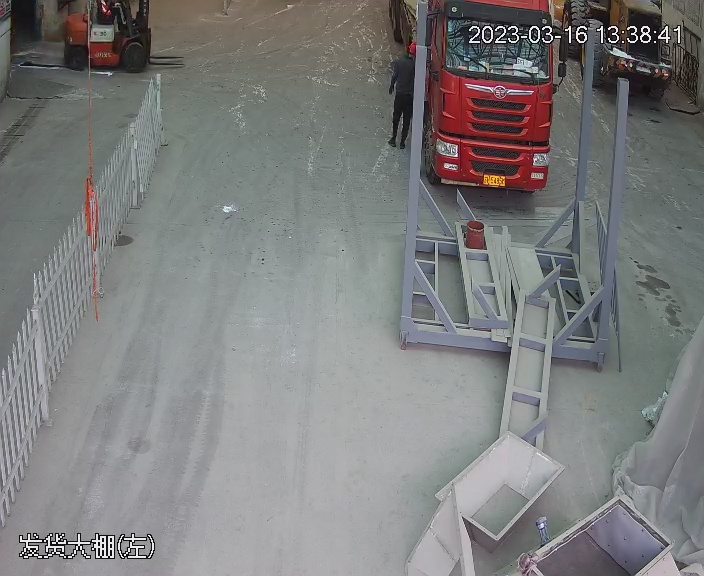head: (394, 42, 416, 85)
helmet: (408, 42, 419, 51)
people: (385, 45, 417, 148)
truck: (384, 1, 564, 193)
